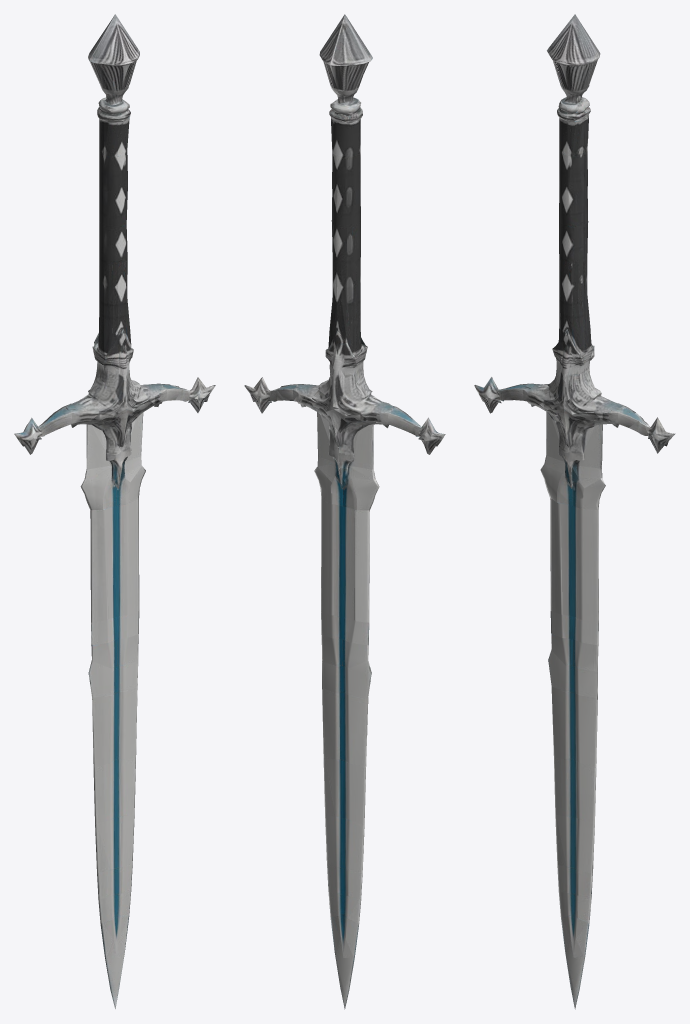
File: p5w-w0-ironblade.glb
3 views of the same model, side by side, from view 1: azimuth 30°, elevation 25°; view 2: azimuth 150°, elevation 25°; view 3: azimuth 330°, elevation 25° (orthographic).
Size of the model in its own units: 0.2006 by 0.9512 by 0.0478.
1 material, 1 textured.
